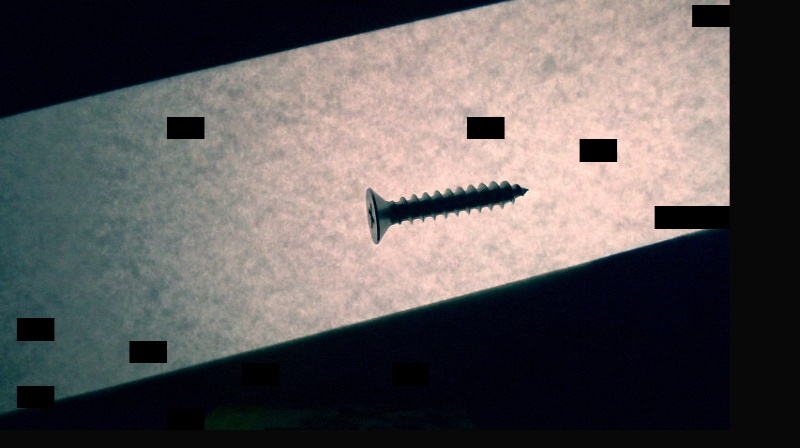S001: (360, 177, 531, 246)
